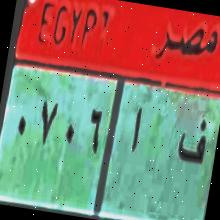0: (56, 115, 82, 160), (9, 102, 31, 154)
6: (80, 104, 111, 163)
7: (31, 98, 61, 148)
alif: (123, 102, 148, 161)
faa: (174, 111, 210, 170)
